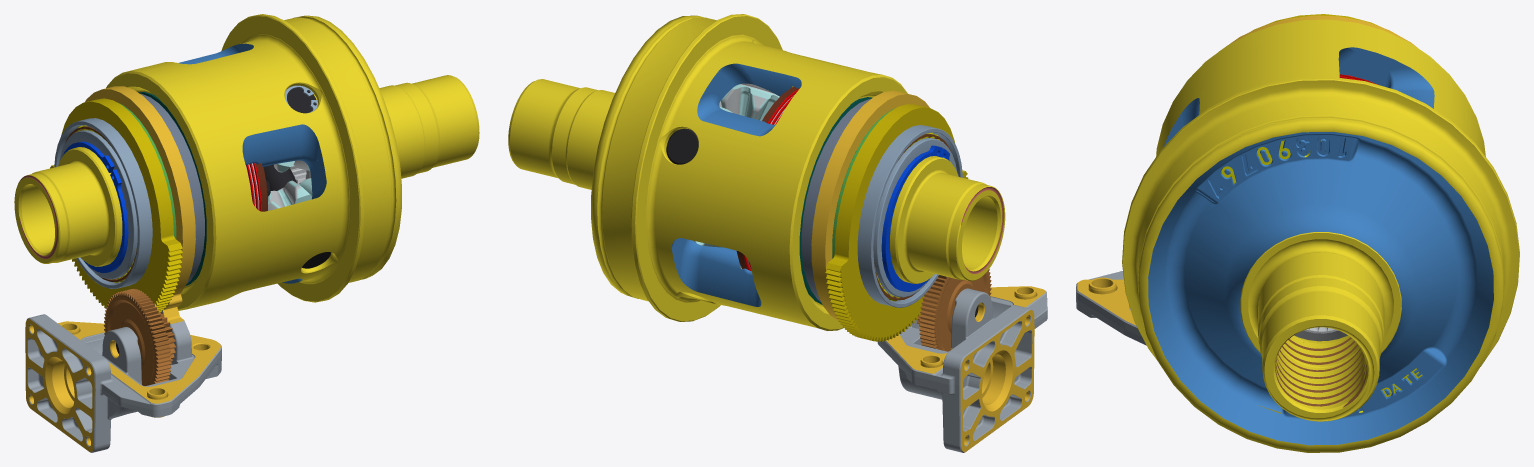
The model's file is TaycanGearRotation.glb.
3 views of the same model, side by side, from view 1: azimuth 30°, elevation 25°; view 2: azimuth 150°, elevation 25°; view 3: azimuth 270°, elevation 25° (orthographic). The views are drawn at different scales.
Parts seen in each view (by area): view 1: 1600034145_PRT__K_4, Mesh_136, 1600034146_PRT__G_2, 1600032356_PRT__G_2, DIN628_SNR_65X92X10_5IR_PRT__A, 1600032111_PRT__D_2, Mesh_138, 1600030653_PRT__E_2, DIN471-A65-2_3_PRT__F_1, 1600032191_PRT__C_3.002, 1905540008_PRT__F_10, 1905540009_PRT__H_9; view 2: 1600034145_PRT__K_4, Mesh_136, 1600034146_PRT__G_2, 1600032356_PRT__G_2, DIN628_SNR_65X92X10_5IR_PRT__A, 1600032111_PRT__D_2, Mesh_138, 1600030653_PRT__E_2, DIN471-A65-2_3_PRT__F_1, 1600032191_PRT__C_3, 1905540008_PRT__F_10; view 3: 1600034145_PRT__K_4, Mesh_136, 1600032111_PRT__D_2, 1600032189_PRT__D_2.
Part boxes in pixels (bbox=[...]): 1600034145_PRT__K_4: bbox=[106, 14, 479, 310]; Mesh_136: bbox=[25, 307, 221, 452]; 1600034146_PRT__G_2: bbox=[14, 82, 208, 298]; 1600032356_PRT__G_2: bbox=[50, 98, 182, 313]; DIN628_SNR_65X92X10_5IR_PRT__A: bbox=[54, 118, 152, 288]; 1600032111_PRT__D_2: bbox=[85, 86, 195, 309]; Mesh_138: bbox=[103, 289, 176, 385]; 1600030653_PRT__E_2: bbox=[138, 92, 206, 285]; DIN471-A65-2_3_PRT__F_1: bbox=[62, 141, 128, 272]; 1600032191_PRT__C_3.002: bbox=[268, 178, 312, 210]; 1905540008_PRT__F_10: bbox=[263, 165, 331, 268]; 1905540009_PRT__H_9: bbox=[271, 88, 315, 165]; 1600034145_PRT__K_4: bbox=[508, 14, 907, 330]; Mesh_136: bbox=[877, 286, 1047, 452]; 1600034146_PRT__G_2: bbox=[797, 86, 1005, 320]; 1600032356_PRT__G_2: bbox=[825, 104, 968, 341]; DIN628_SNR_65X92X10_5IR_PRT__A: bbox=[857, 125, 962, 307]; 1600032111_PRT__D_2: bbox=[811, 90, 929, 320]; Mesh_138: bbox=[917, 269, 991, 351]; 1600030653_PRT__E_2: bbox=[799, 97, 872, 304]; DIN471-A65-2_3_PRT__F_1: bbox=[881, 145, 949, 291]; 1600032191_PRT__C_3: bbox=[719, 84, 779, 120]; 1905540008_PRT__F_10: bbox=[666, 128, 698, 164]; 1600034145_PRT__K_4: bbox=[1122, 19, 1519, 452]; Mesh_136: bbox=[1076, 271, 1146, 345]; 1600032111_PRT__D_2: bbox=[1219, 15, 1417, 51]; 1600032189_PRT__D_2: bbox=[1294, 327, 1347, 341].
Size of the model in its own units: 0.2605 by 0.196 by 0.1757.
